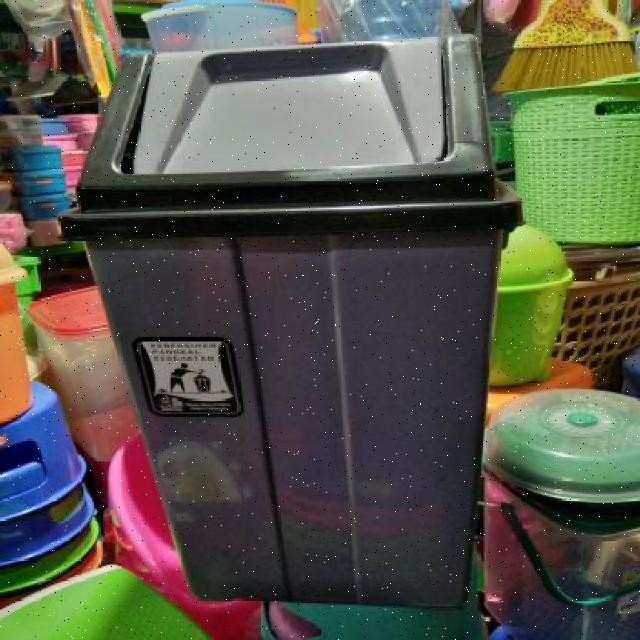garbage container: (49, 28, 528, 617)
